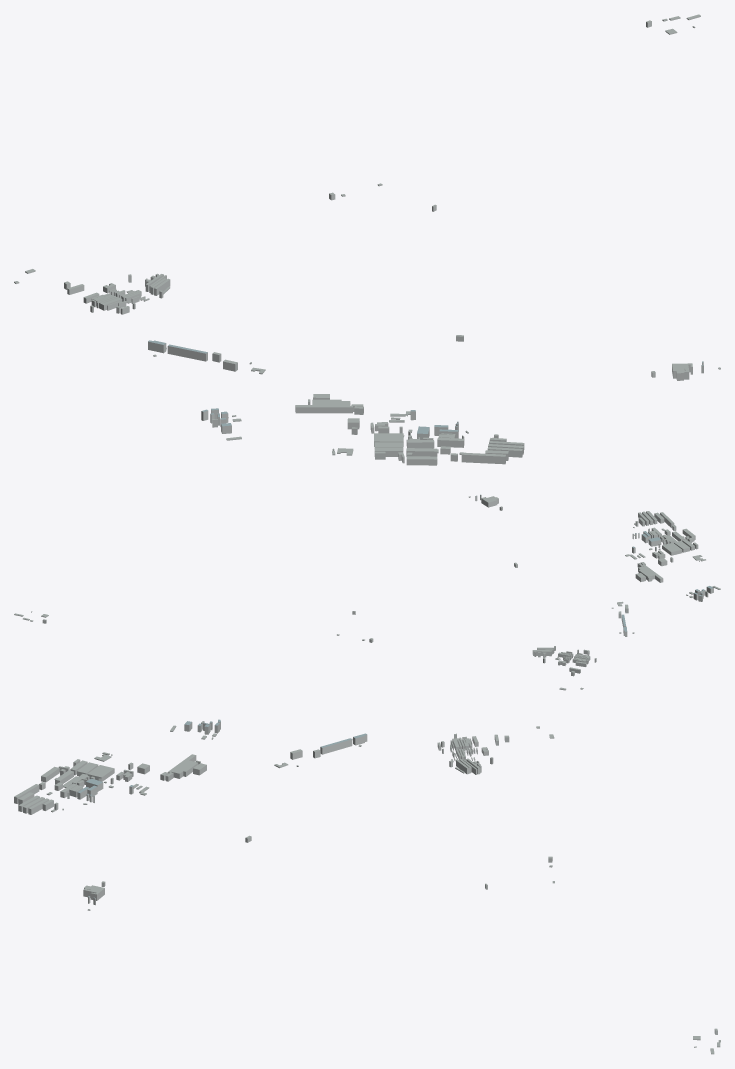
Rendered from far.glb.
The picture shows the model from 3 angles, top to bottom: view 1: azimuth 30°, elevation 25°; view 2: azimuth 150°, elevation 25°; view 3: azimuth 270°, elevation 25°; orthographic projection. The views are drawn at different scales.
Bounding box in the file's own units: 1934 × 21.7 × 1762.
